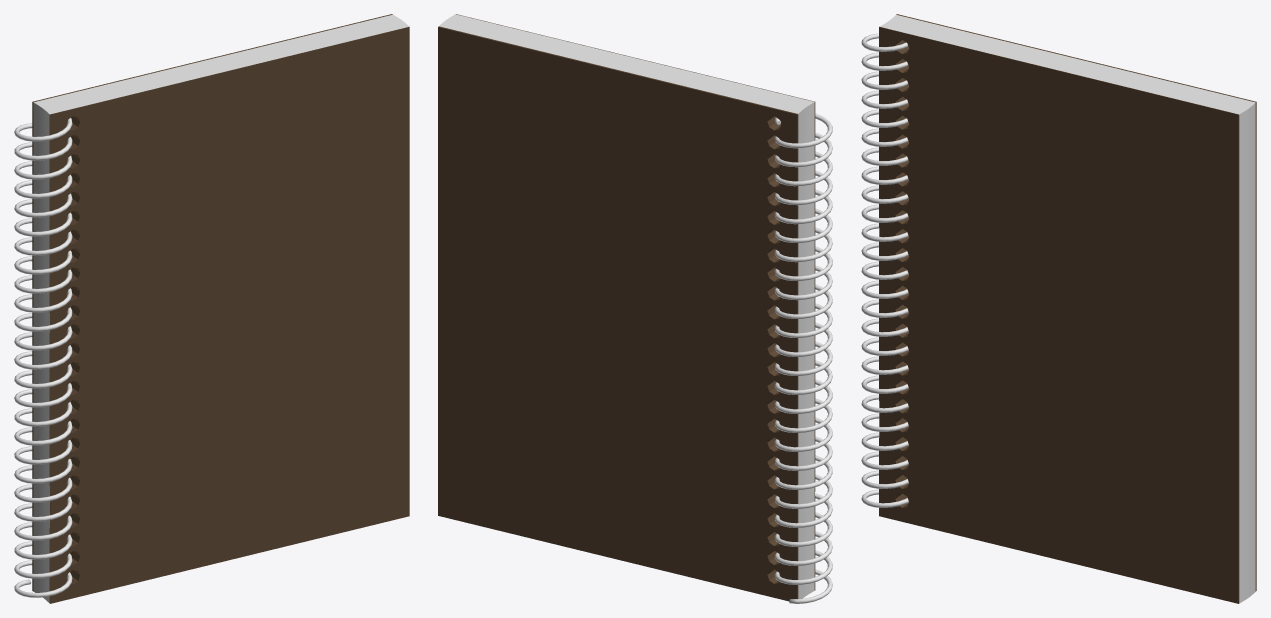
The picture shows the model from 3 angles, left to right: view 1: azimuth 30°, elevation 25°; view 2: azimuth 150°, elevation 25°; view 3: azimuth 330°, elevation 25°; orthographic projection.
Parts seen in each view (by area): view 1: Spiral_Notebook_2; view 2: Spiral_Notebook_2; view 3: Spiral_Notebook_2.
Part boxes in pixels (bbox=[...]): Spiral_Notebook_2: bbox=[14, 14, 409, 603]; Spiral_Notebook_2: bbox=[438, 14, 832, 603]; Spiral_Notebook_2: bbox=[861, 14, 1256, 603].
Size of the model in its own units: 0.2372 by 0.289 by 0.0312.
